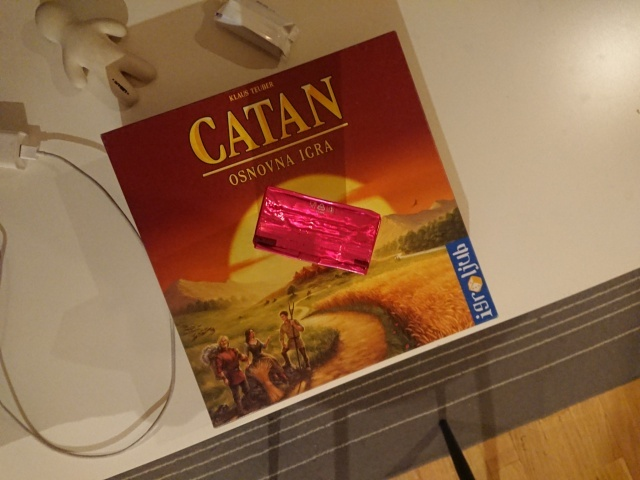Barcaffe Classic Original 225g: (251, 184, 384, 279)
